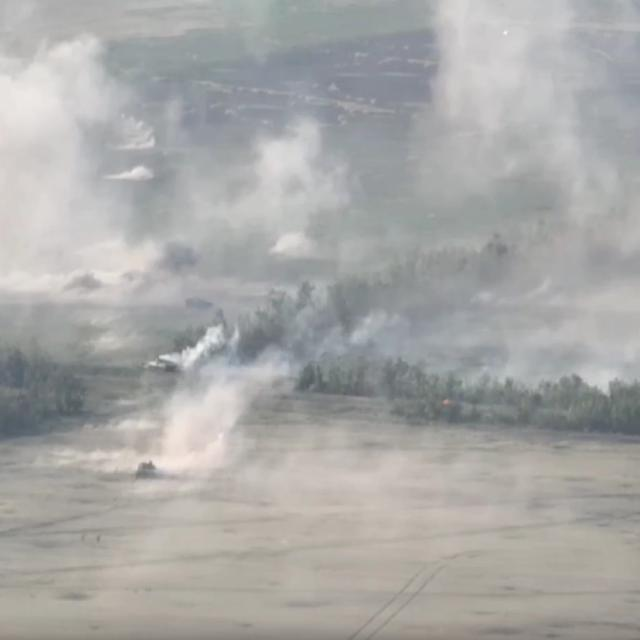AIFV: (145, 355, 179, 381), (184, 294, 216, 314)
MBT: (134, 456, 165, 484)
